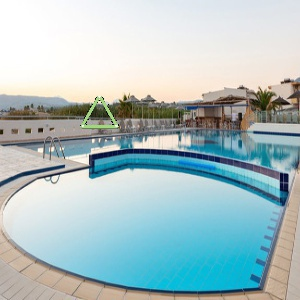triangle: (78, 92, 120, 130)
